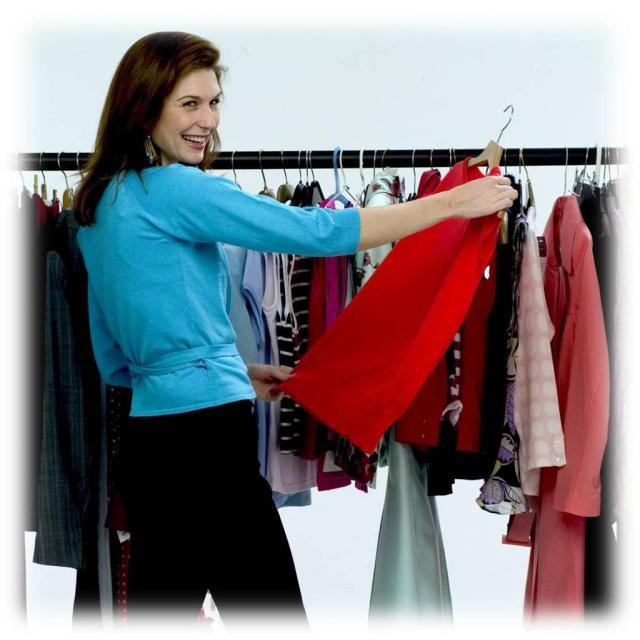Face: (164, 69, 224, 168)
